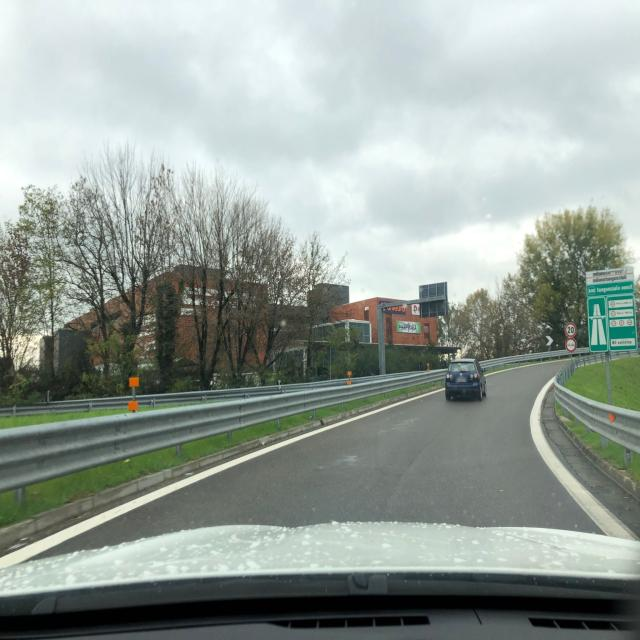car: (444, 358, 488, 401)
